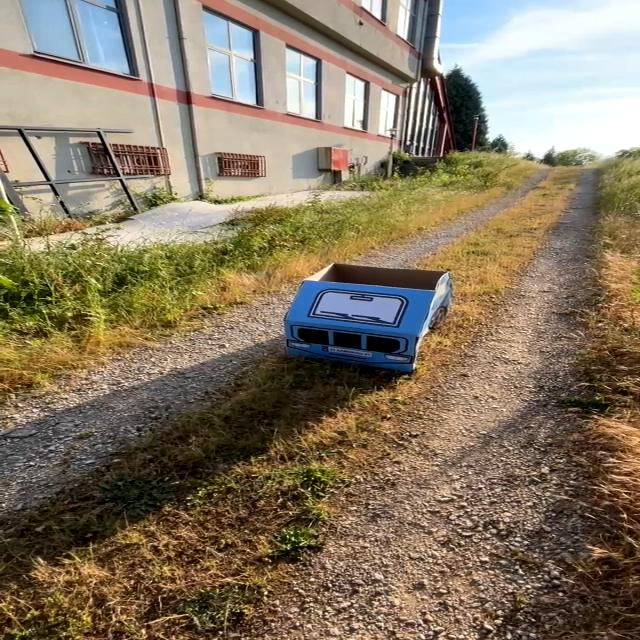blue_car: (178, 238, 542, 396), (639, 432, 640, 475)
